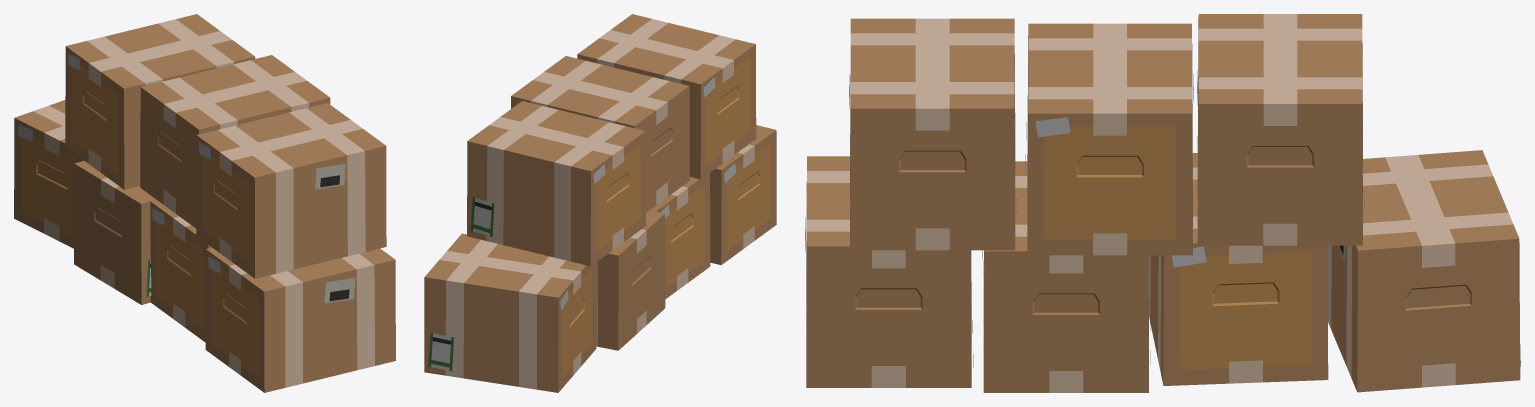
File: SM_carton_box_2_set.gltf
3 renders of one model, left to right at view 1: azimuth 30°, elevation 25°; view 2: azimuth 150°, elevation 25°; view 3: azimuth 270°, elevation 25°, orthographic. The views are drawn at different scales.
Visible parts, largest first — view 1: SM_carton_box_2_set; view 2: SM_carton_box_2_set; view 3: SM_carton_box_2_set.
Boxes of the visible parts, x1=… form: SM_carton_box_2_set: x1=14, y1=14, x2=395, y2=392; SM_carton_box_2_set: x1=424, y1=14, x2=776, y2=392; SM_carton_box_2_set: x1=805, y1=14, x2=1520, y2=392.
Bounding box in the file's own units: 0.6372 × 0.7866 × 1.8.
1 material, 1 textured.
